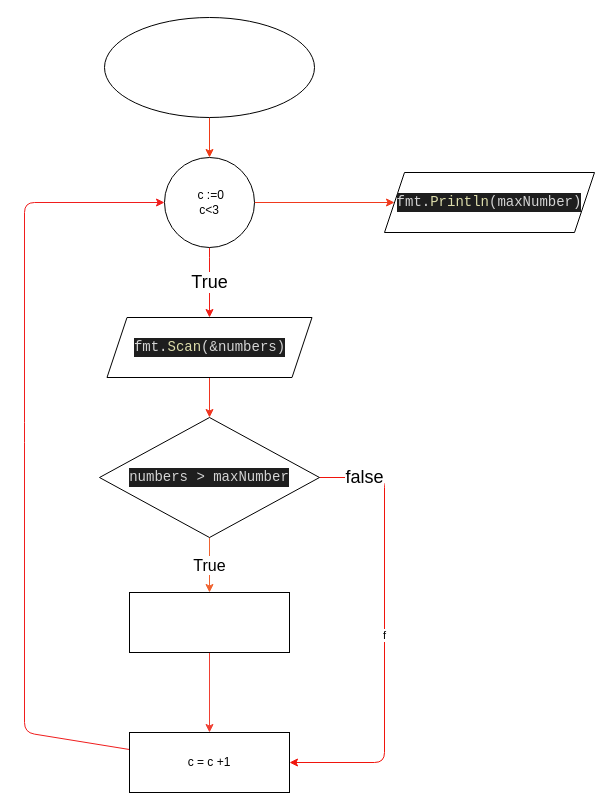
This 612x810 diagram has some shape labels left out. Each missing label, with the box of its shape:
maxNumber = numbers: (128, 592, 290, 652)
var numbers int var maxNumber int = 0: (104, 16, 314, 118)
